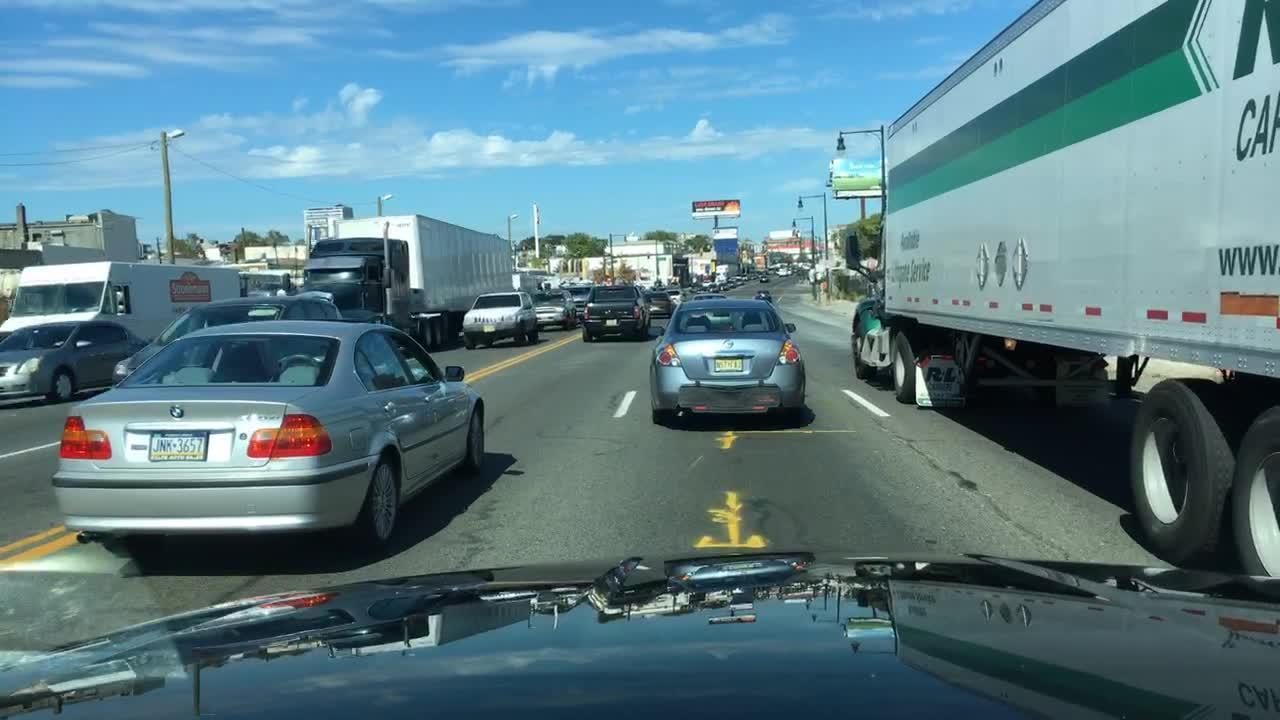Nissan: (721, 337, 736, 349)
bmw: (163, 399, 193, 425)
